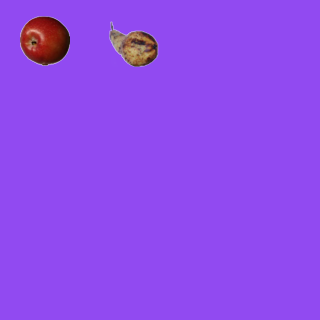Apple Braeburn: (19, 15, 69, 65)
Pear Abate: (108, 19, 158, 69)
